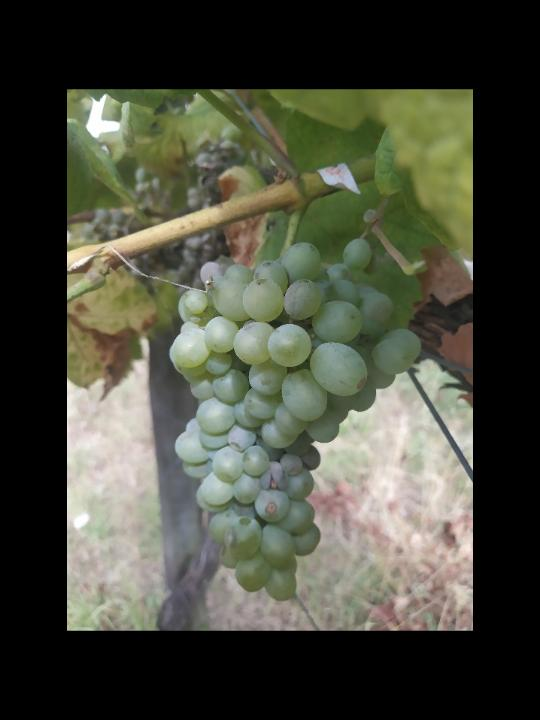grape: (166, 237, 427, 605)
